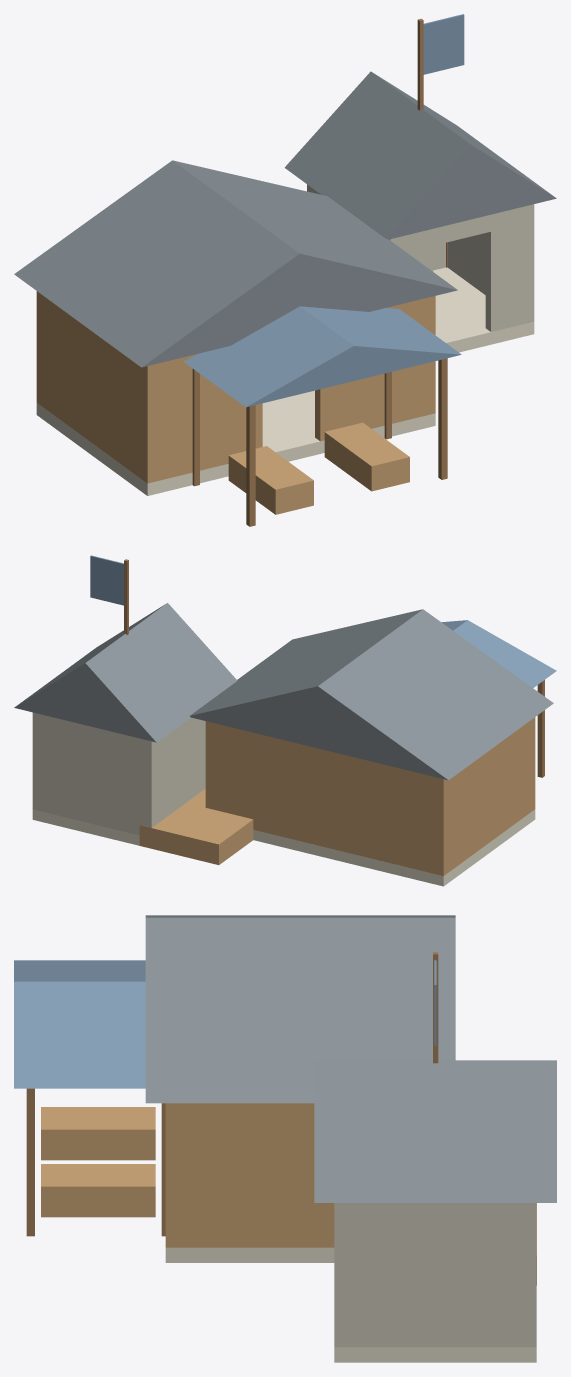
The model's file is infirmary-upgraded.glb.
The picture shows the model from 3 angles, top to bottom: view 1: azimuth 30°, elevation 25°; view 2: azimuth 150°, elevation 25°; view 3: azimuth 270°, elevation 25°; orthographic projection. The views are drawn at different scales.
Parts seen in each view (by area): view 1: infirmary-upgraded; view 2: infirmary-upgraded; view 3: infirmary-upgraded.
Boxes of the visible parts, x1,y1,x2,y2 form: infirmary-upgraded: (14, 14, 556, 526); infirmary-upgraded: (14, 555, 556, 886); infirmary-upgraded: (14, 915, 556, 1362).
Size of the model in its own units: 10.1 by 6 by 8.05.
